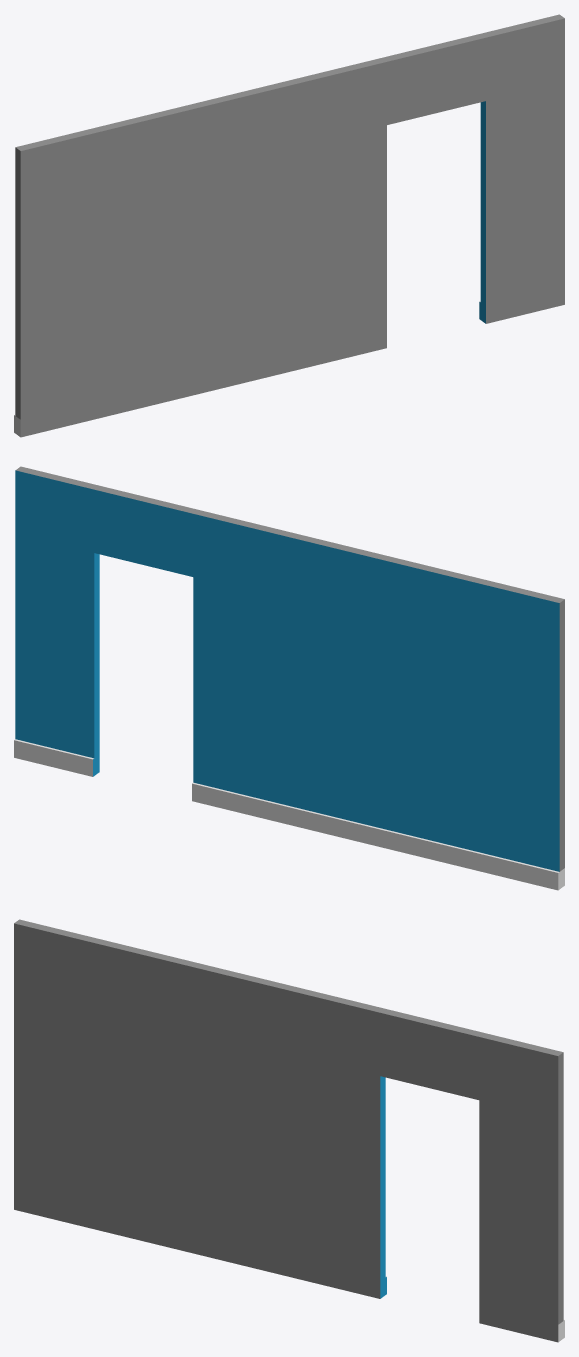
File: Wall 3.FBX
The picture shows the model from 3 angles, top to bottom: view 1: azimuth 30°, elevation 25°; view 2: azimuth 150°, elevation 25°; view 3: azimuth 330°, elevation 25°; orthographic projection.
Visible parts, largest first — view 1: Wall 3; view 2: Wall 3; view 3: Wall 3.
Part boxes in pixels (box(x1,y1,x2,y2)): Wall 3: box(14, 14, 564, 437); Wall 3: box(14, 466, 564, 890); Wall 3: box(14, 919, 564, 1342).
Size of the model in its own units: 519 by 261 by 11.22.
Materials: 2 (1 with a texture image).
